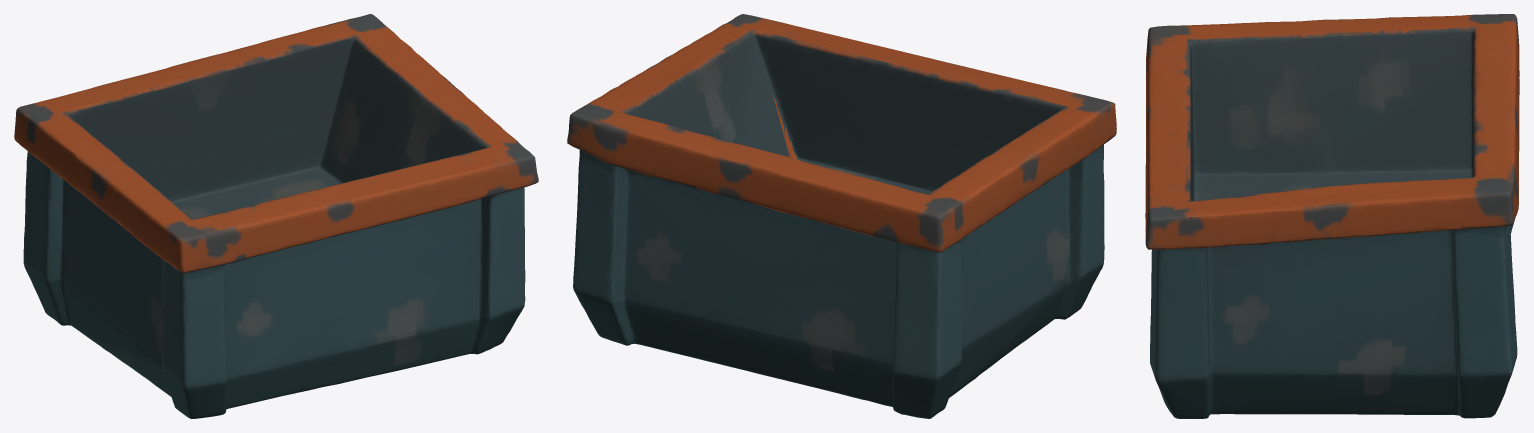
File: body.glb
3 views of the same model, side by side, from view 1: azimuth 30°, elevation 25°; view 2: azimuth 150°, elevation 25°; view 3: azimuth 270°, elevation 25° (orthographic). The views are drawn at different scales.
Bounding box in the file's own units: 1.01 × 0.585 × 0.8246.
Materials: 1 (1 with a texture image).
